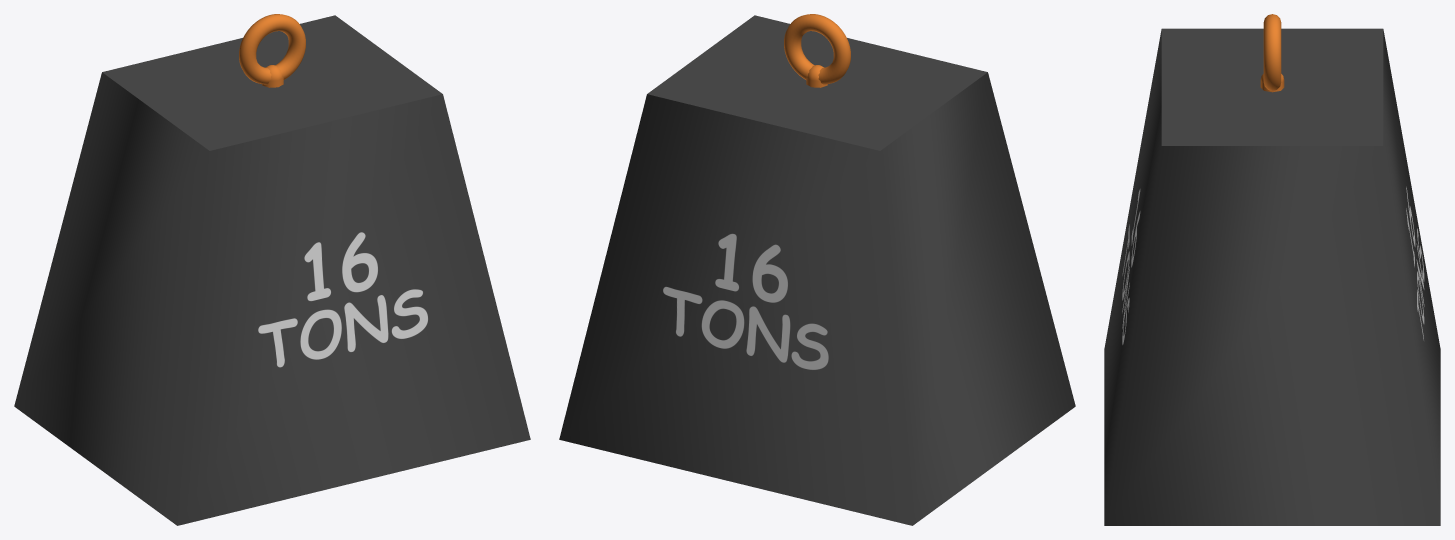
Rendered from 16tonWeight.gltf.
3 renders of one model, left to right at view 1: azimuth 30°, elevation 25°; view 2: azimuth 150°, elevation 25°; view 3: azimuth 270°, elevation 25°, orthographic. The views are drawn at different scales.
Visible parts, largest first — view 1: Cylinder, Plane, Torus; view 2: Cylinder, Plane, Torus; view 3: Cylinder, Plane (×2), Torus.
Boxes of the visible parts, bbox=[...] form: Cylinder: bbox=[14, 15, 530, 525]; Plane: bbox=[258, 232, 427, 367]; Torus: bbox=[239, 14, 305, 84]; Cylinder: bbox=[559, 15, 1075, 525]; Plane: bbox=[663, 233, 828, 369]; Torus: bbox=[784, 14, 850, 84]; Cylinder: bbox=[1104, 28, 1440, 525]; Plane (×2): bbox=[1122, 186, 1424, 345]; Torus: bbox=[1263, 14, 1281, 90].
Bounding box in the file's own units: 1.41 × 1.56 × 1.13.
4 materials, 1 textured.
